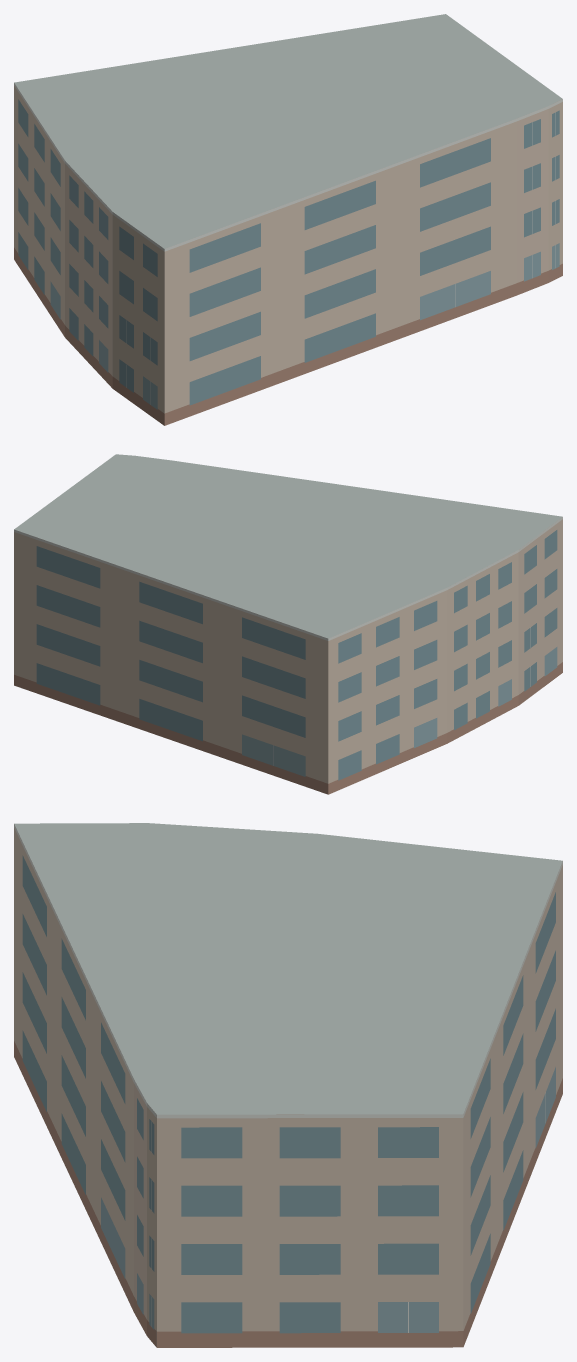
File: survey-upis-32473217.glb
3 renders of one model, top to bottom at view 1: azimuth 30°, elevation 25°; view 2: azimuth 150°, elevation 25°; view 3: azimuth 270°, elevation 25°, orthographic. The views are drawn at different scales.
Visible parts, largest first — view 1: survey-upis-32473217.tmp; view 2: survey-upis-32473217.tmp; view 3: survey-upis-32473217.tmp.
Boxes of the visible parts, x1,y1,x2,y2 form: survey-upis-32473217.tmp: [14, 14, 562, 425]; survey-upis-32473217.tmp: [14, 454, 562, 794]; survey-upis-32473217.tmp: [14, 823, 562, 1347].
Size of the model in its own units: 41.57 by 15.5 by 33.07.
